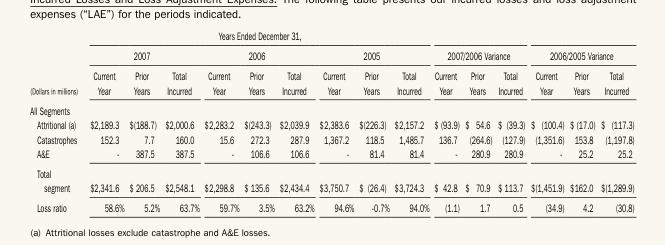table: (29, 29, 633, 213)
table column: (29, 29, 83, 213), (83, 29, 126, 213), (161, 29, 201, 213), (276, 29, 316, 213), (201, 29, 240, 213), (316, 29, 355, 213), (391, 29, 430, 213), (527, 29, 566, 213), (240, 29, 276, 213), (355, 29, 391, 213), (597, 29, 633, 213), (126, 29, 161, 213), (461, 29, 494, 213), (494, 29, 527, 213), (430, 29, 461, 213), (566, 29, 597, 213)
table column header: (29, 29, 633, 82)
table projected row header: (29, 99, 633, 116)
table row: (29, 163, 633, 197), (29, 45, 633, 65), (29, 65, 633, 82), (29, 82, 633, 99), (29, 99, 633, 116), (29, 146, 633, 163), (29, 29, 633, 45), (29, 197, 633, 213), (29, 116, 633, 131), (29, 131, 633, 146)
table spanning cell: (83, 29, 430, 45), (527, 29, 633, 65), (430, 29, 527, 65), (83, 45, 201, 65), (201, 45, 316, 65), (316, 45, 430, 65)
